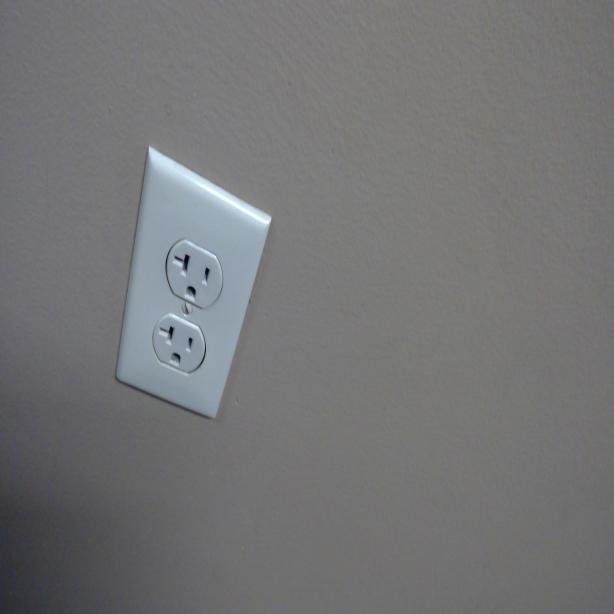typeb: (171, 238, 221, 302), (154, 310, 200, 373)
